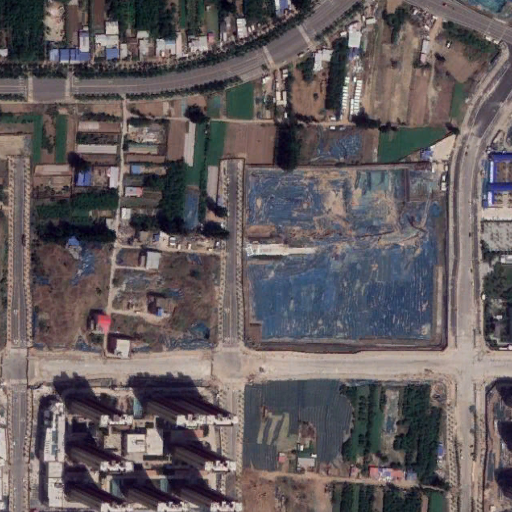cw: (239, 126, 446, 352)
